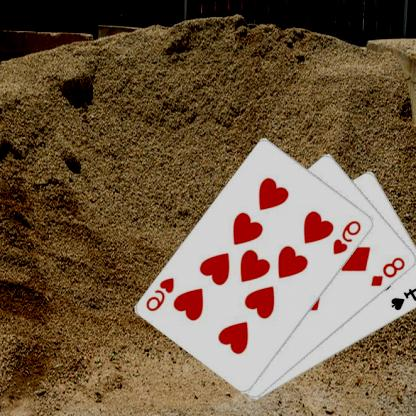4S: (390, 281, 416, 312)
8D: (370, 254, 409, 288)
9H: (332, 218, 365, 256), (145, 275, 178, 313)
